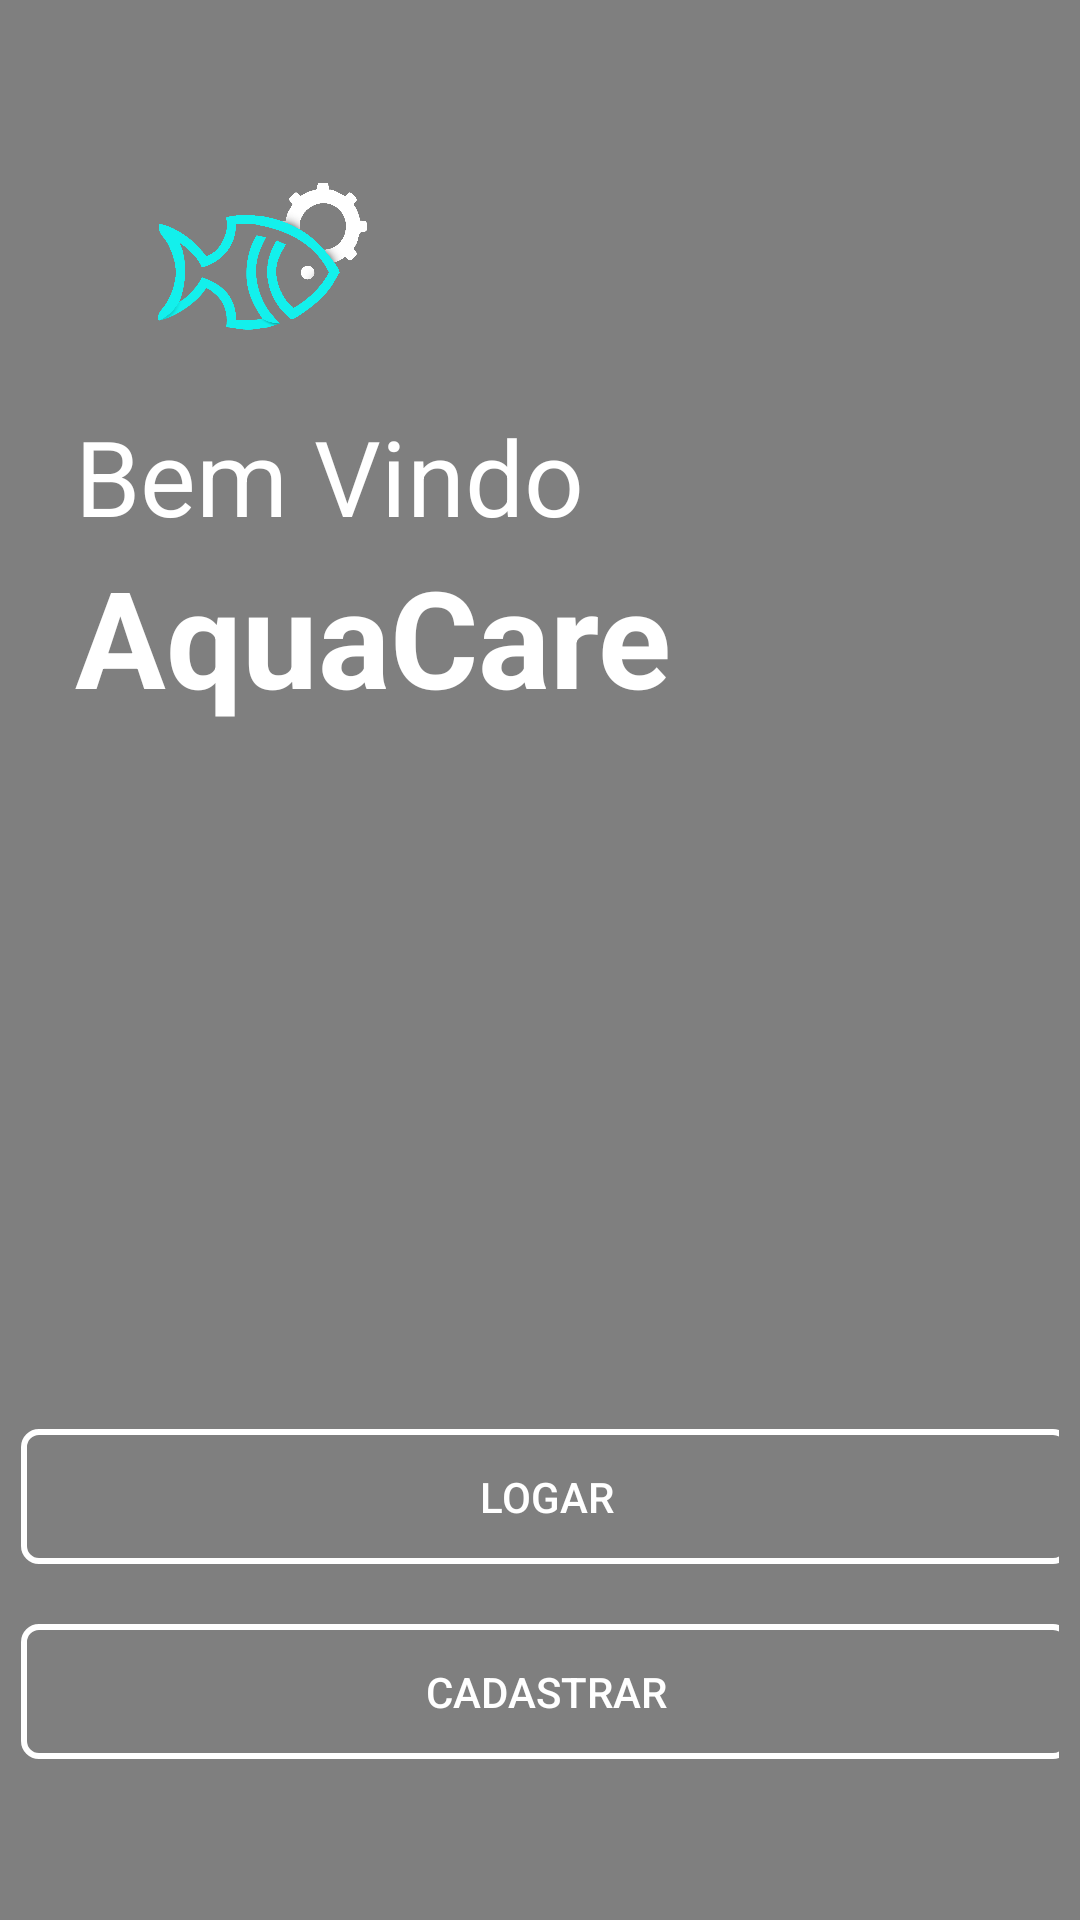

Named icons in this screenshot (1080px×1920px) and their bounding boxes, {"left": x1, "top": y1, "right": x2, "bottom": y2}:
peixin transparente: {"left": 158, "top": 183, "right": 367, "bottom": 330}
